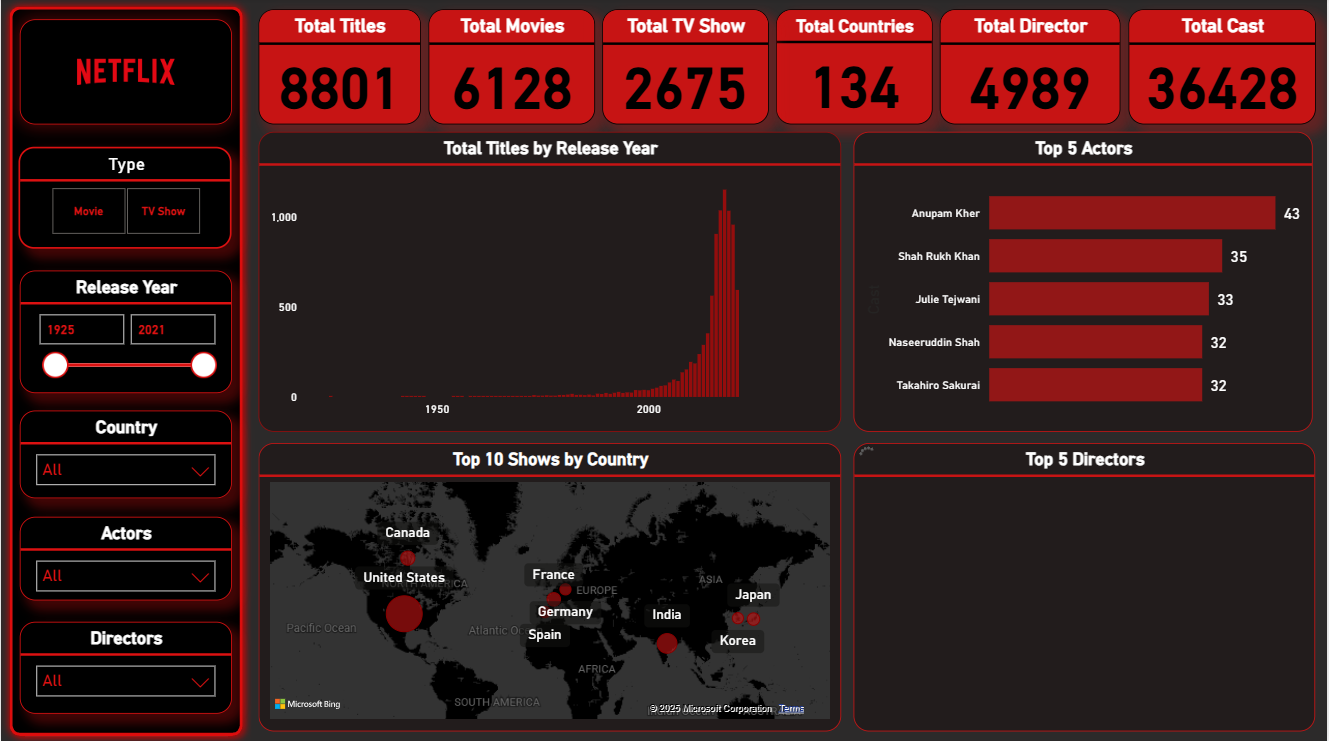

The dashboard page shown, as its layout file describes it:
{"tool":"powerbi","page":{"name":"NETFLIX Overview page 2","canvas":[1280,720],"ordinal":1},"visuals":[{"type":"card","title":"Total Countries","fields":{"Values":["Country.Country"]},"box":[748.3,11,150.9,111.1],"z":0},{"type":"card","title":"Total Director","fields":{"Values":["Director.Director"]},"box":[906.6,11,174.3,111.1],"z":1000},{"type":"card","title":"Total Cast","fields":{"Values":["Cast.Cast"]},"box":[1088.2,11,181.1,111.1],"z":2000},{"type":"shape","box":[0,0,241.5,720.4],"z":3000},{"type":"image","box":[17.8,20.6,204.5,101.5],"z":4000},{"type":"card","title":"Total Titles","fields":{"Values":["netflix_titles.title"]},"box":[248.8,11,156.4,111.1],"z":5000},{"type":"card","title":"Total Movies","fields":{"Values":["_Measures.Number of Movies"]},"box":[412.6,11,160.5,111.1],"z":6000},{"type":"card","title":"Total TV Show","fields":{"Values":["_Measures.Number of TV Shows"]},"box":[580.4,11,160.5,111.1],"z":7000},{"type":"slicer","title":"Type","fields":{"Values":["netflix_titles.type"]},"box":[16.5,143.3,205.8,98.8],"z":8000},{"type":"slicer","title":"Release Year","fields":{"Values":["netflix_titles.release_year"]},"box":[17.8,263.2,204.5,118],"z":9000},{"type":"slicer","title":"Country","fields":{"Values":["Country.Country"]},"box":[17.8,397.9,204.5,85.1],"z":10000},{"type":"slicer","title":"Actors","fields":{"Values":["Cast.Cast"]},"box":[17.8,500.3,204.5,81],"z":11000},{"type":"slicer","title":"Directors","fields":{"Values":["Director.Director"]},"box":[17.8,602.4,204.5,89.2],"z":12000},{"type":"clusteredBarChart","title":"Top 5 Actors","fields":{"Category":["Cast.Cast"],"Y":["Cast.show_id"]},"box":[823.3,129,443.2,289.5],"z":13000},{"type":"columnChart","title":"Total Titles by Release Year","fields":{"Category":["netflix_titles.release_year"],"Y":["netflix_titles.title"]},"box":[248.4,129,562.6,289.5],"z":14000},{"type":"clusteredBarChart","title":"Top 5 Directors","fields":{"Category":["Director.Director"],"Y":["netflix_titles.title"]},"box":[823.3,429.5,446,278.6],"z":15000},{"type":"map","title":"Top 10 Shows by Country","fields":{"Category":["Country.Country"],"Size":["netflix_titles.show_id"]},"box":[248.4,429.5,562.6,278.6],"z":16000}]}

Visuals, with their boxes in screenshot pixels (x1, y1, x2, y2), scaled from the page's 1280x720 canvas onto the 1329x741 screenshot:
"Total Countries" card: region(777, 11, 934, 126)
"Total Director" card: region(941, 11, 1122, 126)
"Total Cast" card: region(1130, 11, 1318, 126)
shape: region(0, 0, 251, 740)
image: region(18, 21, 231, 126)
"Total Titles" card: region(258, 11, 421, 126)
"Total Movies" card: region(428, 11, 595, 126)
"Total TV Show" card: region(603, 11, 769, 126)
"Type" slicer: region(17, 147, 231, 249)
"Release Year" slicer: region(18, 271, 231, 392)
"Country" slicer: region(18, 410, 231, 497)
"Actors" slicer: region(18, 515, 231, 598)
"Directors" slicer: region(18, 620, 231, 712)
"Top 5 Actors" clusteredBarChart: region(855, 133, 1315, 431)
"Total Titles by Release Year" columnChart: region(258, 133, 842, 431)
"Top 5 Directors" clusteredBarChart: region(855, 442, 1318, 729)
"Top 10 Shows by Country" map: region(258, 442, 842, 729)
